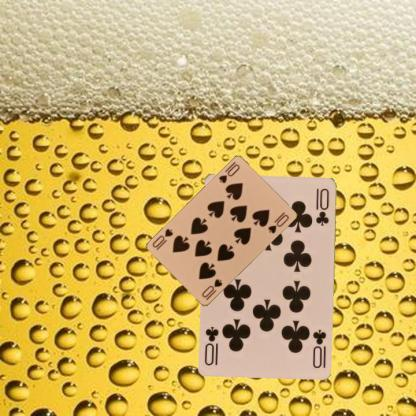10c: (310, 326, 327, 370)
10s: (199, 276, 224, 302), (216, 162, 241, 185)
